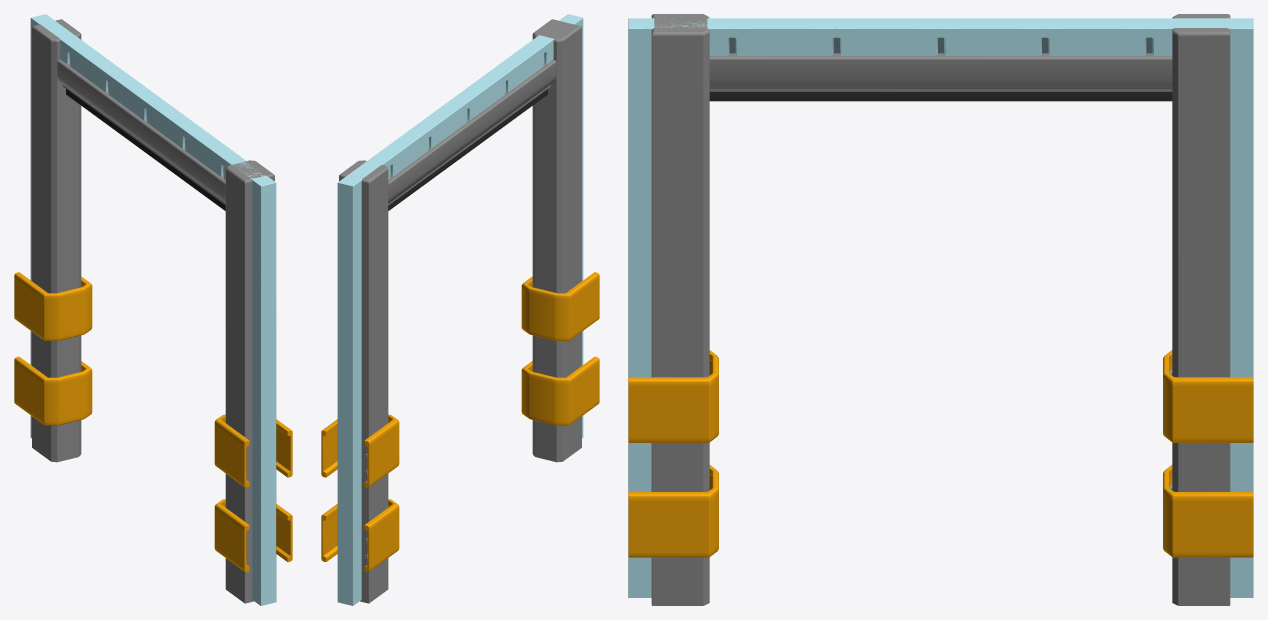
Rendered from Doorframe_Delivery.glb.
3 views of the same model, side by side, from view 1: azimuth 30°, elevation 25°; view 2: azimuth 150°, elevation 25°; view 3: azimuth 270°, elevation 25° (orthographic). The views are drawn at different scales.
Parts seen in each view (by area): view 1: Doorframe_Delivery; view 2: Doorframe_Delivery; view 3: Doorframe_Delivery.
Boxes of the visible parts, bbox=[...] form: Doorframe_Delivery: bbox=[14, 14, 292, 605]; Doorframe_Delivery: bbox=[321, 14, 599, 605]; Doorframe_Delivery: bbox=[628, 14, 1253, 605].
Size of what is drawn, in the model's own units: 0.4861 by 4.04 by 4.
Materials: 1 (1 with a texture image).
